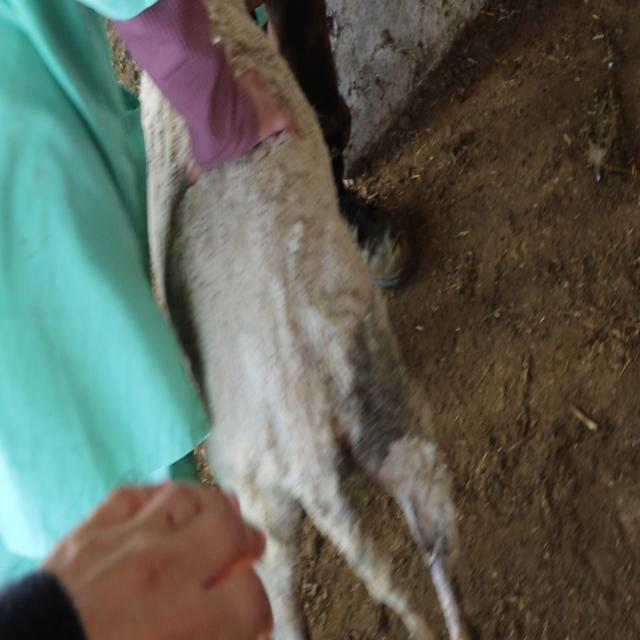Score_1: (140, 0, 469, 639)
